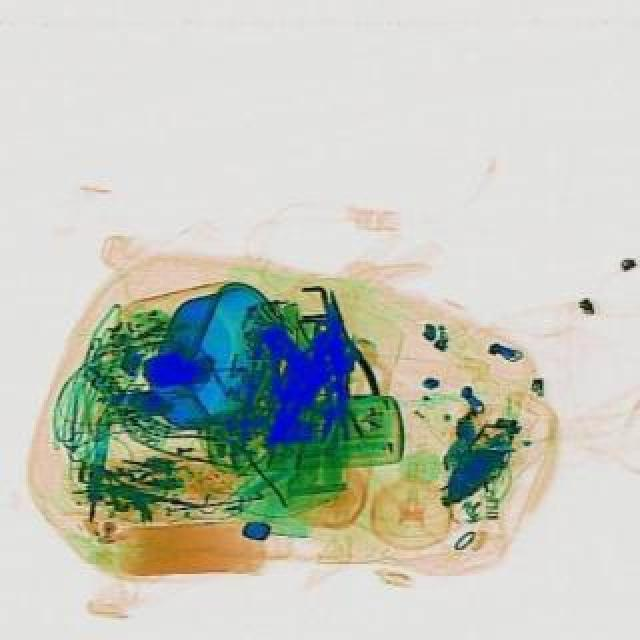wrench: (304, 286, 378, 404)
